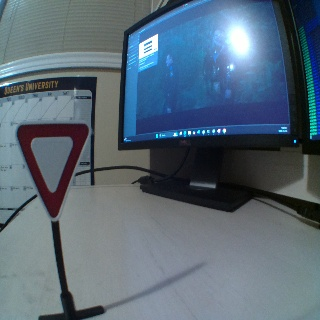sign_yield: (13, 123, 90, 217)
